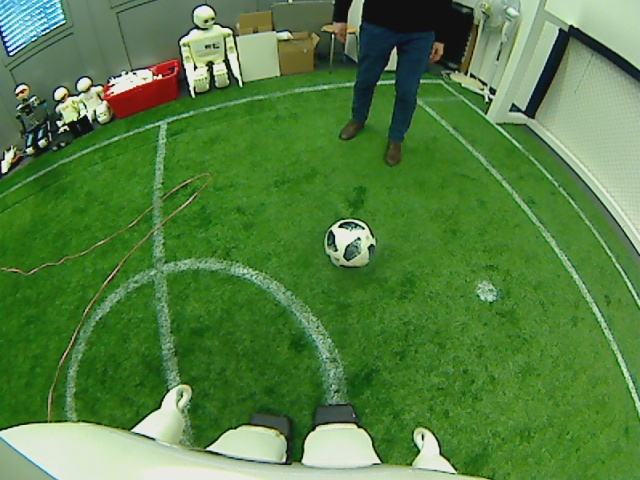ball: (324, 217, 375, 269)
